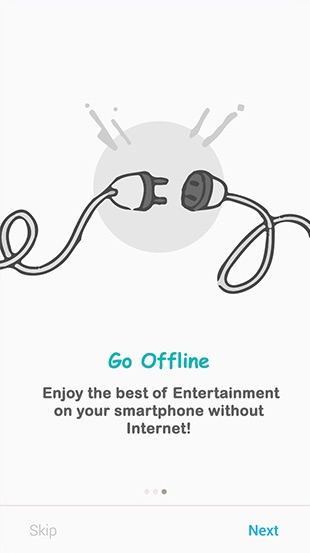Image: (1, 104, 310, 295)
PageIndicator: (144, 488, 169, 495)
Text: (43, 386, 281, 435), (108, 352, 210, 370), (30, 523, 58, 539), (249, 524, 279, 537)
